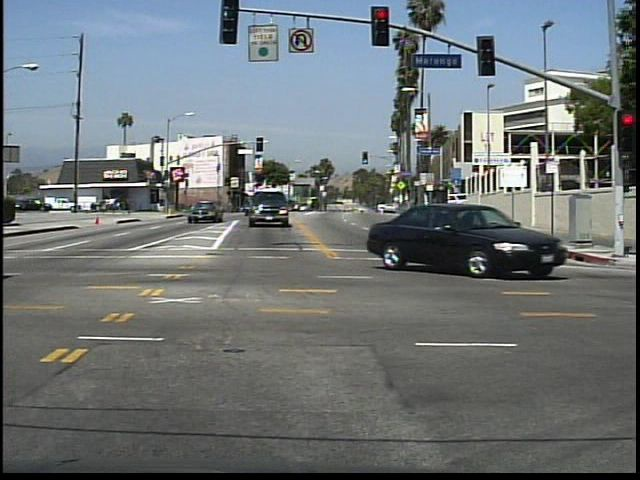person: (124, 195, 135, 219)
